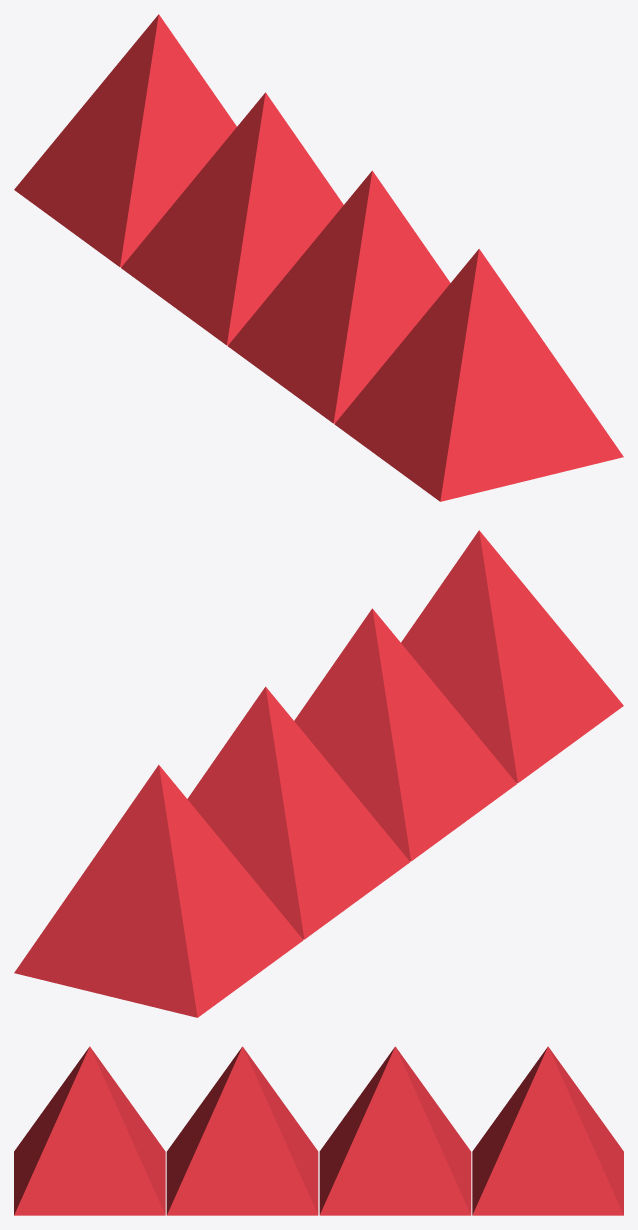
Rendered from Obstacle.fbx.
3 renders of one model, top to bottom at view 1: azimuth 30°, elevation 25°; view 2: azimuth 150°, elevation 25°; view 3: azimuth 270°, elevation 25°, orthographic. The views are drawn at different scales.
Visible parts, largest first — view 1: Cube.002; view 2: Cube.002; view 3: Cube.002.
Part boxes in pixels (left/top/right/bottom): Cube.002: left=14, top=14, right=623, bottom=501; Cube.002: left=14, top=530, right=623, bottom=1017; Cube.002: left=14, top=1046, right=623, bottom=1215.
Size of the model in its own units: 8.3 by 8.3 by 33.36.
